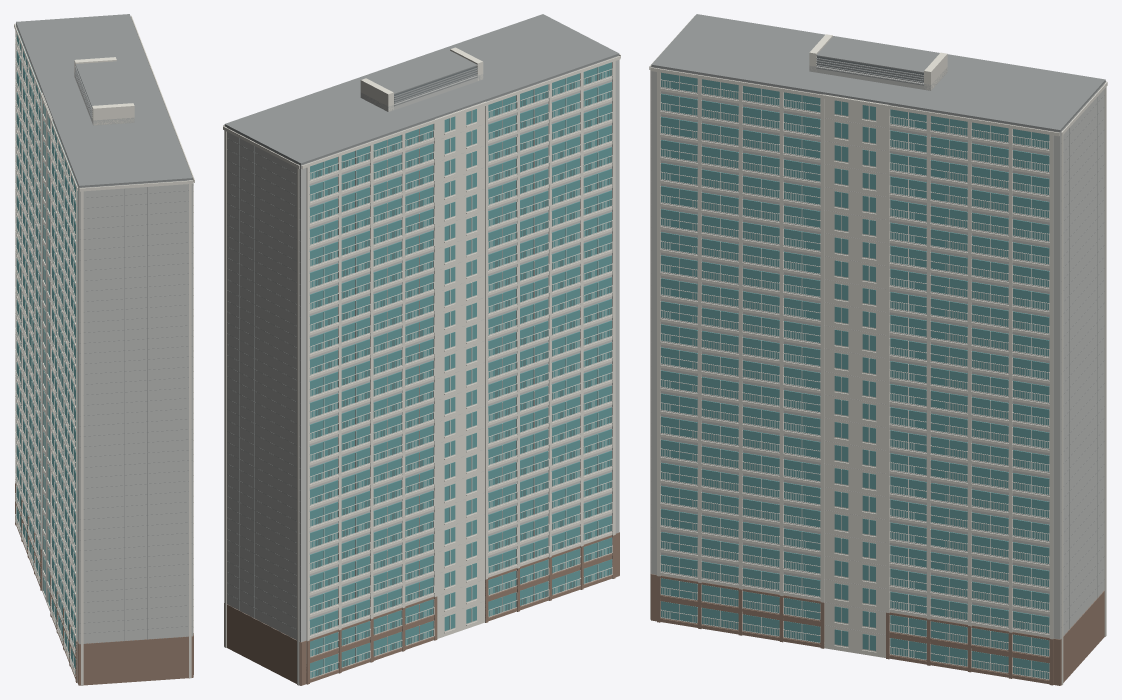
Rendered from bespoke-jamsil-els-119.glb.
3 views of the same model, side by side, from view 1: azimuth 30°, elevation 25°; view 2: azimuth 150°, elevation 25°; view 3: azimuth 270°, elevation 25° (orthographic). The views are drawn at different scales.
Visible parts, largest first — view 1: Els119_editable_Els119_light_grey_solid_wall, Els119_editable_Els119_modest_grey_flat_roof_caps, Els119_editable_Els119_turquoise_balcony_glazing, Els119_white_exact_chunk_2, Els119_white_exact_chunk_0, Els119_white_exact_chunk_1, Els119_editable_Els119_muted_ground_wall, Els119_white_exact_chunk_5, Els119_white_exact_chunk_4; view 2: Els119_editable_Els119_turquoise_balcony_glazing, Els119_editable_Els119_light_grey_solid_wall, Els119_white_exact_chunk_0, Els119_white_exact_chunk_1, Els119_white_exact_chunk_2, Els119_editable_Els119_modest_grey_flat_roof_caps, Els119_editable_Els119_muted_ground_wall, Els119_white_exact_chunk_5; view 3: Els119_editable_Els119_turquoise_balcony_glazing, Els119_editable_Els119_light_grey_solid_wall, Els119_white_exact_chunk_5, Els119_white_exact_chunk_4, Els119_white_exact_chunk_2, Els119_editable_Els119_modest_grey_flat_roof_caps, Els119_white_exact_chunk_3, Els119_editable_Els119_muted_ground_wall, Els119_white_exact_chunk_0, Els119_editable_Els119_narrow_charcoal_service_strips.
Part boxes in pixels (x1,y1,x2,y2): Els119_editable_Els119_light_grey_solid_wall: (16, 24, 192, 643); Els119_editable_Els119_modest_grey_flat_roof_caps: (16, 14, 192, 644); Els119_editable_Els119_turquoise_balcony_glazing: (16, 30, 77, 673); Els119_white_exact_chunk_2: (14, 23, 193, 685); Els119_white_exact_chunk_0: (15, 23, 52, 611); Els119_white_exact_chunk_1: (15, 26, 63, 643); Els119_editable_Els119_muted_ground_wall: (15, 483, 193, 685); Els119_white_exact_chunk_5: (74, 15, 194, 182); Els119_white_exact_chunk_4: (167, 110, 193, 635); Els119_editable_Els119_turquoise_balcony_glazing: (309, 62, 611, 678); Els119_editable_Els119_light_grey_solid_wall: (224, 55, 619, 642); Els119_white_exact_chunk_0: (223, 101, 485, 685); Els119_white_exact_chunk_1: (306, 95, 549, 673); Els119_white_exact_chunk_2: (301, 54, 620, 622); Els119_editable_Els119_modest_grey_flat_roof_caps: (224, 14, 619, 639); Els119_editable_Els119_muted_ground_wall: (224, 532, 619, 685); Els119_white_exact_chunk_5: (223, 47, 483, 126); Els119_editable_Els119_turquoise_balcony_glazing: (661, 72, 1049, 679); Els119_editable_Els119_light_grey_solid_wall: (651, 65, 1105, 639); Els119_white_exact_chunk_5: (650, 34, 1059, 679); Els119_white_exact_chunk_4: (657, 68, 967, 666); Els119_white_exact_chunk_2: (649, 16, 1106, 657); Els119_editable_Els119_modest_grey_flat_roof_caps: (651, 14, 1105, 635); Els119_white_exact_chunk_3: (660, 73, 876, 636); Els119_editable_Els119_muted_ground_wall: (650, 574, 1104, 685); Els119_white_exact_chunk_0: (1061, 82, 1107, 684); Els119_editable_Els119_narrow_charcoal_service_strips: (817, 56, 923, 81).
Bounding box in the file's own units: 30 × 68.2 × 49.32.
